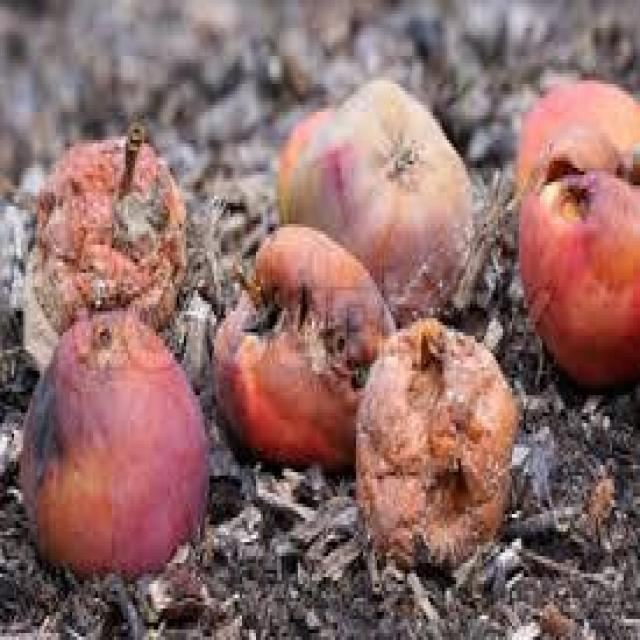Rotten: (13, 298, 224, 580), (265, 75, 475, 316), (218, 222, 403, 484), (348, 306, 530, 570), (23, 121, 187, 347), (508, 160, 640, 403)
